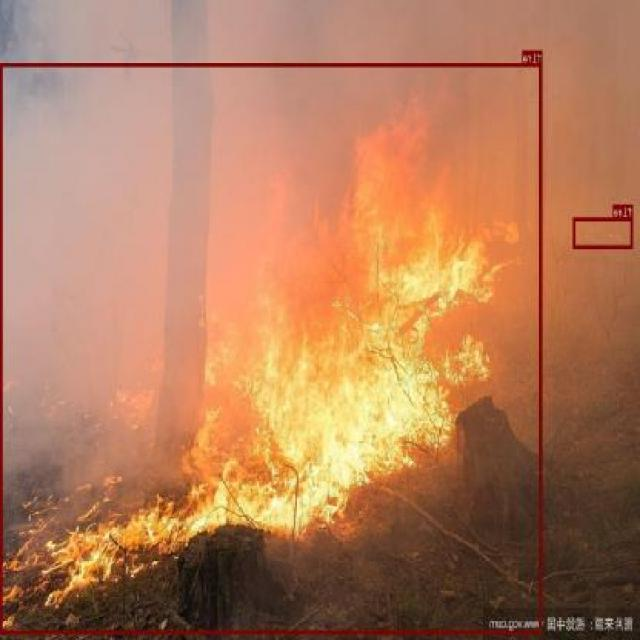fire: (0, 62, 542, 633), (573, 216, 633, 249)
